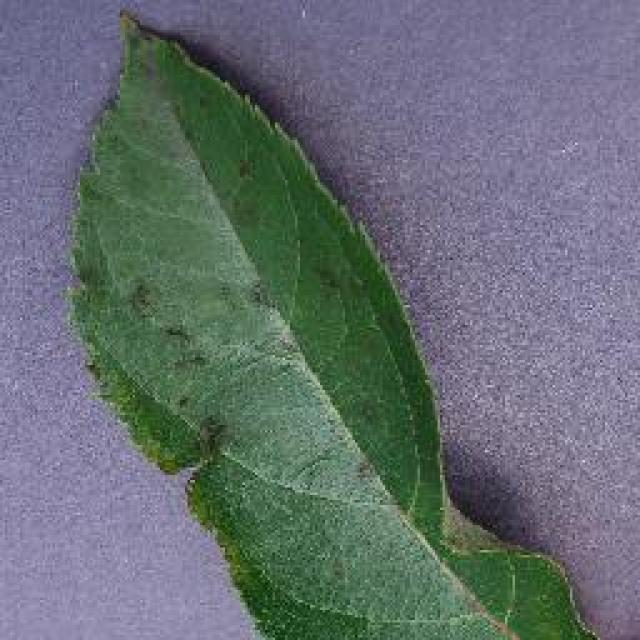apple scab disease: (65, 5, 623, 637)
